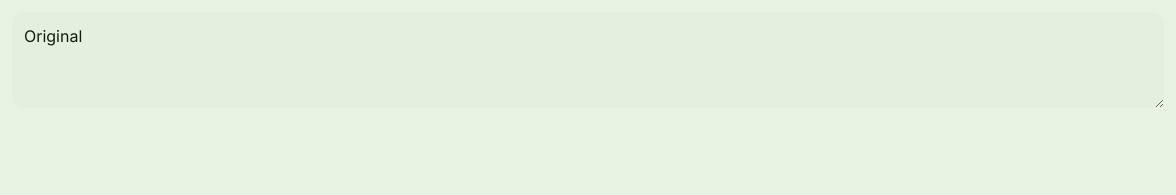
Test: dossier note preserves local text, CAS and route-exit saves › expired grant retains text without a background PIN popup; explicit unlock retries
The width and height of the screenshot is (1176, 195).
Later steps or results of the test are not shown.
Replace the text in the text box with "Retained": (588, 60) [12, 12, 1164, 108]
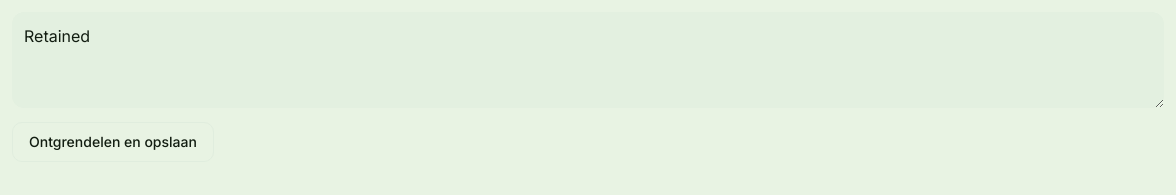
Leave the text box, box [12, 12, 1164, 108]
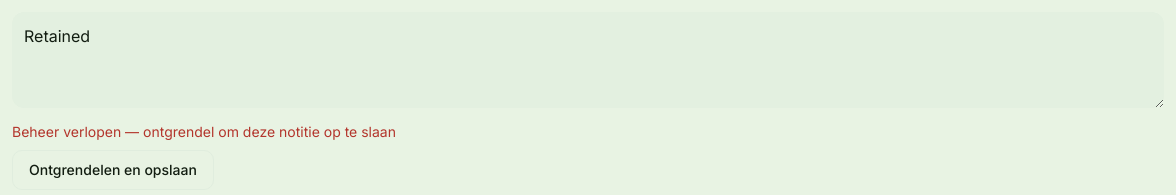
Expected: the message "Beheer verlopen — ontgrendel om deze notitie op te slaan" is shown, [12, 123, 396, 140]
